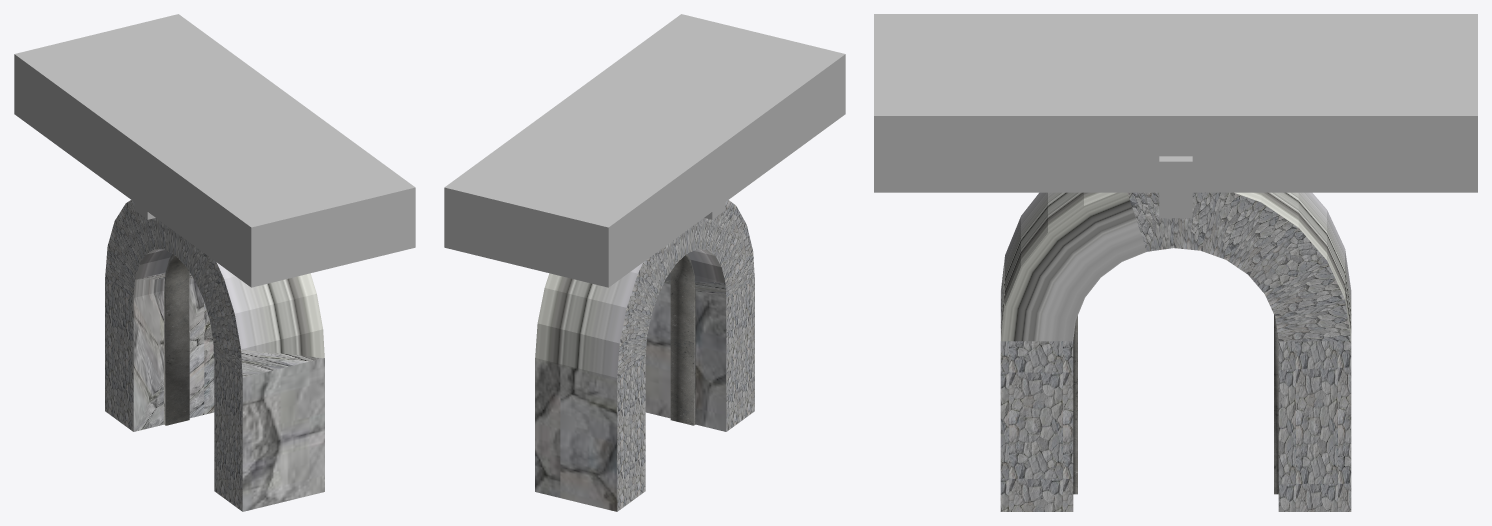
The model's file is Arco.obj.
3 views of the same model, side by side, from view 1: azimuth 30°, elevation 25°; view 2: azimuth 150°, elevation 25°; view 3: azimuth 270°, elevation 25° (orthographic). The views are drawn at different scales.
Parts seen in each view (by area): view 1: Jamb_Material.004, Jamb_Material.001, Jamb_Material, Jamb_Door; view 2: Jamb_Material.004, Jamb_Material.001, Jamb_Material, Jamb_Door; view 3: Jamb_Material.004, Jamb_Material.001, Jamb_Material, Jamb_Material.005, Jamb_Door.
Part boxes in pixels (x1,y1,x2,y2): Jamb_Material.004: (14, 14, 415, 287); Jamb_Material.001: (105, 200, 324, 431); Jamb_Material: (214, 357, 324, 511); Jamb_Door: (164, 254, 189, 425); Jamb_Material.004: (444, 14, 845, 287); Jamb_Material.001: (535, 200, 754, 511); Jamb_Material: (645, 277, 754, 431); Jamb_Door: (670, 254, 695, 425); Jamb_Material.004: (874, 14, 1477, 192); Jamb_Material.001: (1001, 192, 1351, 511); Jamb_Material: (1000, 290, 1073, 511); Jamb_Material.005: (1159, 156, 1192, 218); Jamb_Door: (1073, 315, 1278, 494).
Bounding box in the file's own units: 3.8 × 6.97 × 9.05.
